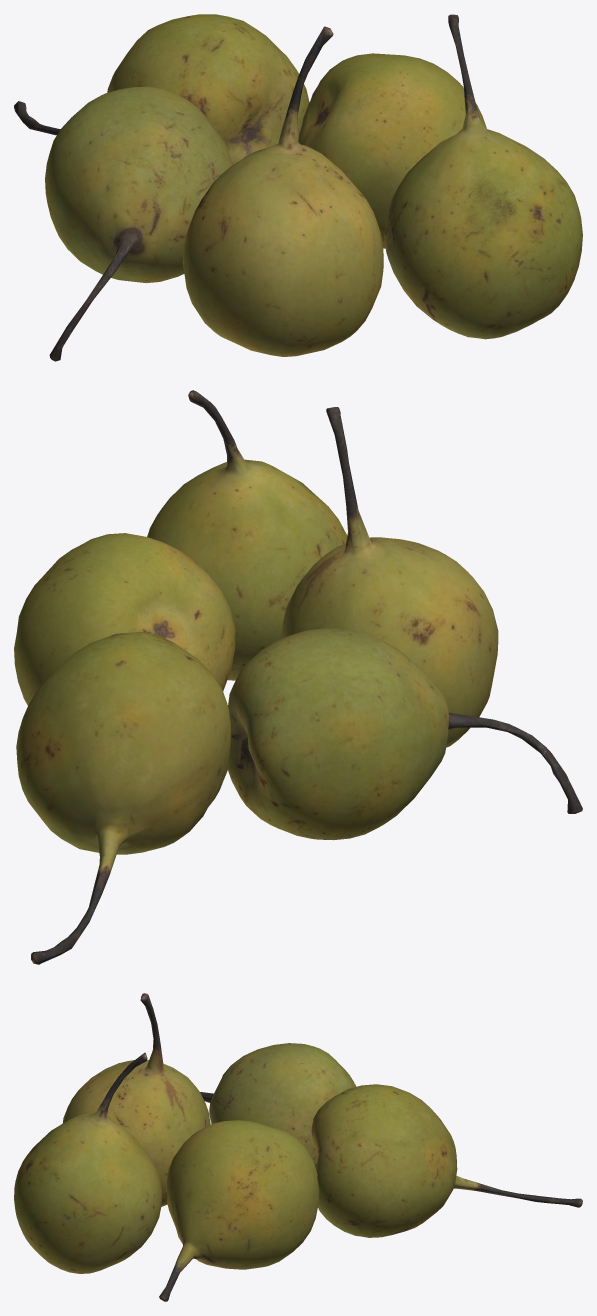
File: food_pears_asian_01.glb
The picture shows the model from 3 angles, top to bottom: view 1: azimuth 30°, elevation 25°; view 2: azimuth 150°, elevation 25°; view 3: azimuth 270°, elevation 25°; orthographic projection. The views are drawn at different scales.
Parts seen in each view (by area): view 1: food_pears_asian_01_b; view 2: food_pears_asian_01_b; view 3: food_pears_asian_01_b.
Part boxes in pixels (left/top/right/bottom): food_pears_asian_01_b: left=14, top=14, right=582, bottom=361; food_pears_asian_01_b: left=14, top=390, right=582, bottom=964; food_pears_asian_01_b: left=14, top=993, right=582, bottom=1301.
Bounding box in the file's own units: 0.1261 × 0.0712 × 0.1669.
Materials: 1 (1 with a texture image).
